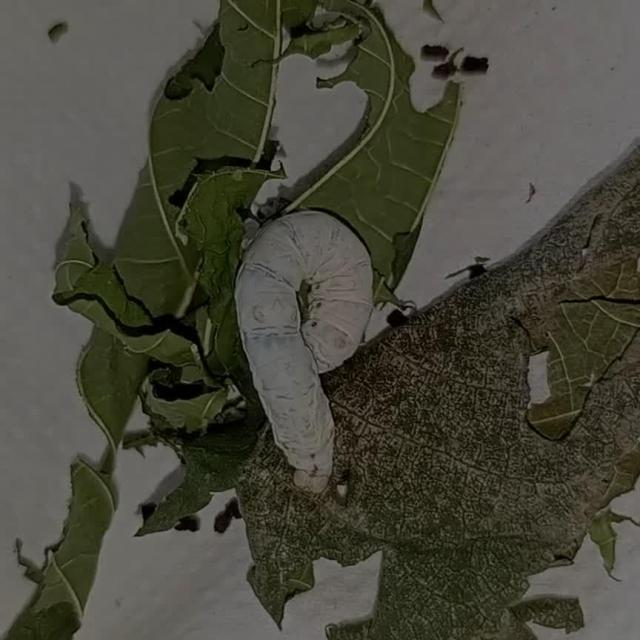Healthy: (216, 188, 402, 513)
